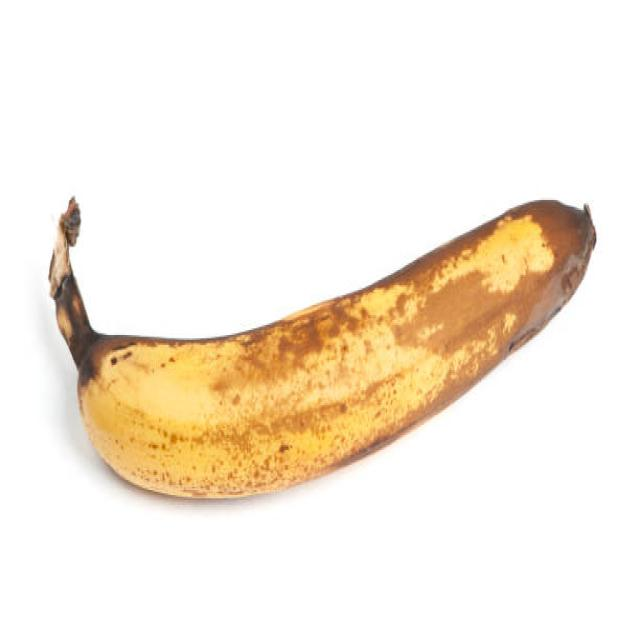overripe: (41, 194, 598, 504)
